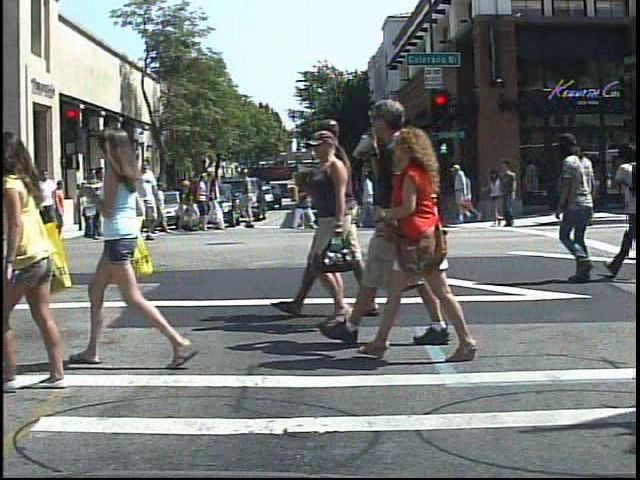person: (334, 87, 455, 348), (368, 117, 484, 363), (82, 113, 179, 376), (0, 126, 68, 387), (552, 128, 606, 282), (129, 160, 163, 243), (87, 162, 117, 241), (34, 167, 63, 244), (449, 160, 480, 232), (11, 181, 32, 242), (93, 181, 113, 220)
